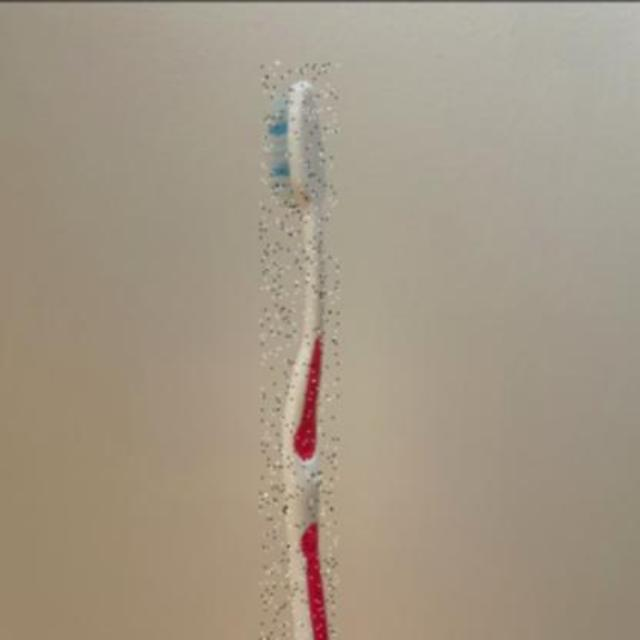toothbrush: (260, 60, 338, 640)
